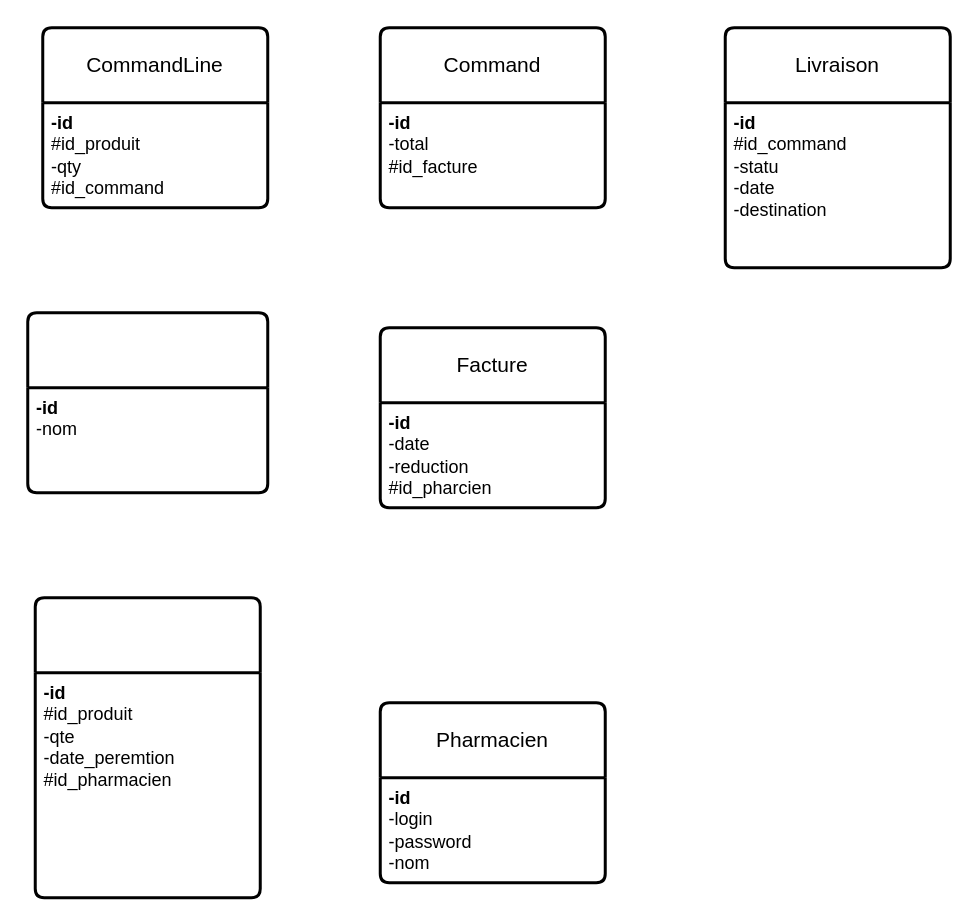
Image size: 977x924. Some labels were removed from this diagram. Here are the shapes that lost their labels. From the top down, the box of each, then its label:
(26, 310, 268, 494): Produit
(33, 596, 261, 898): Stock
